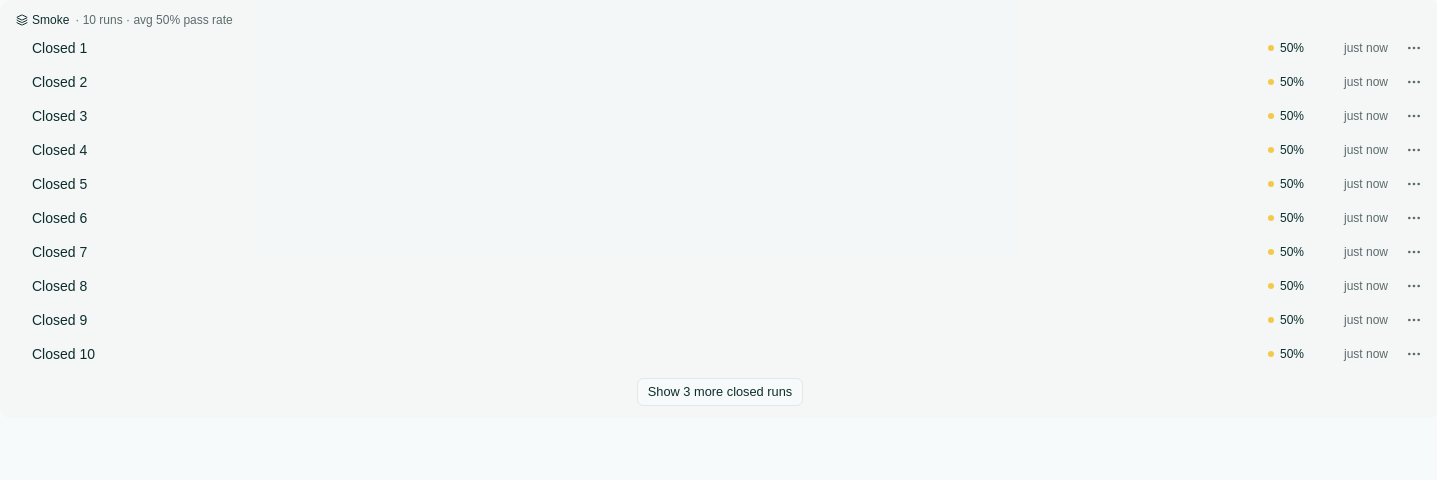
ClosedRunsLedger › caps the flattened list at 10 rows before clustering, revealing more on demand
Expected: the text "Closed 1" is shown, x1=32 y1=40 x2=87 y2=56
Expected: the text "Closed 11" is not shown
Click the button "Show 3 more closed runs" at coordinates (720, 392), box x1=637 y1=378 x2=803 y2=406
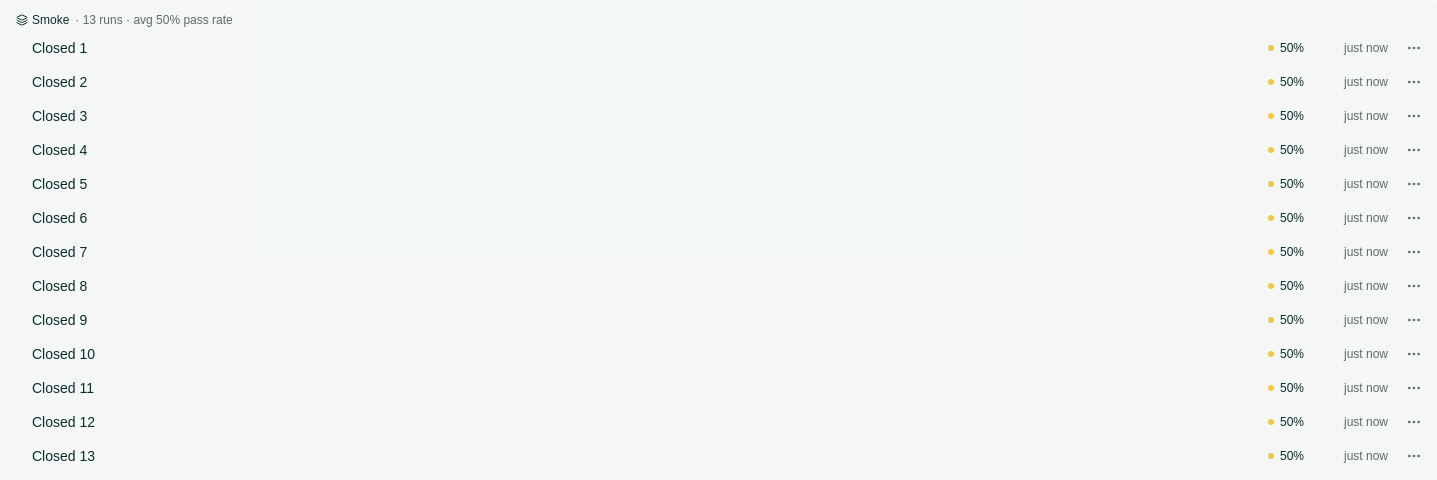
Now the text "Closed 11" is shown, box x1=32 y1=380 x2=94 y2=396
